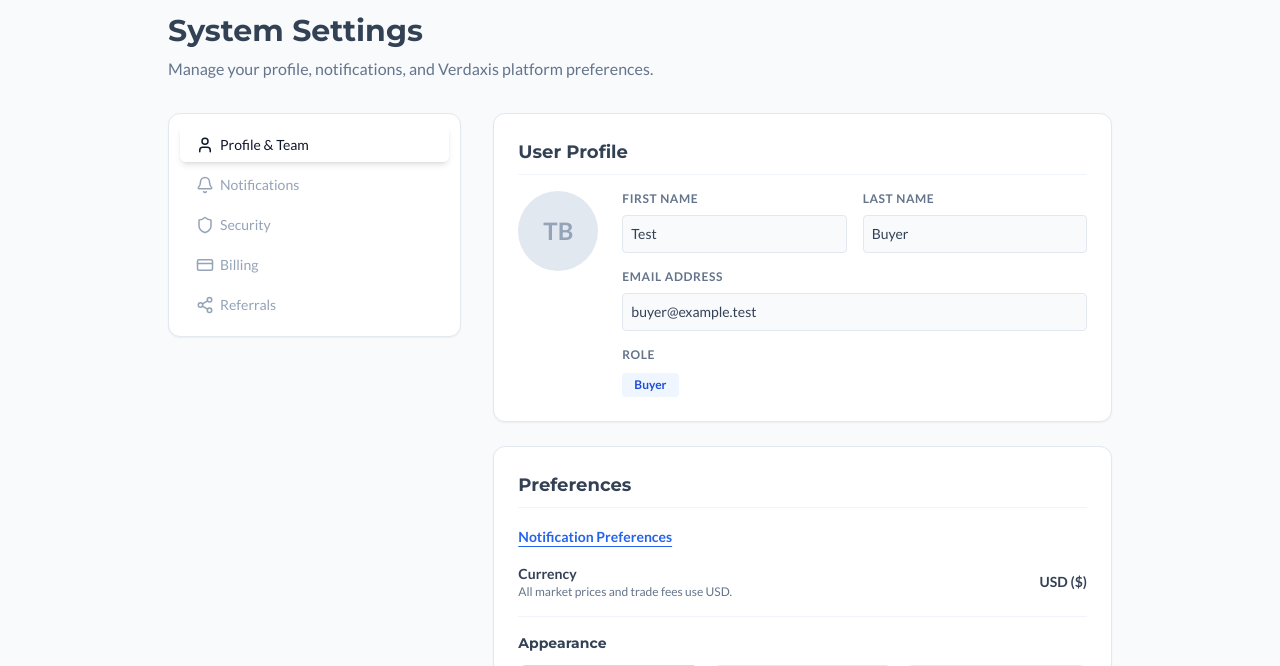
audited UI controls › shows fixed currency, labelled passwords, and a working sales destination
Expected: the field labelled "First Name" is shown, [622,215,847,253]
Expected: the text "USD ($)" is shown, [1040,572,1087,592]
Click the button "Security". click: point(245, 224)
box: [180,205,449,245]
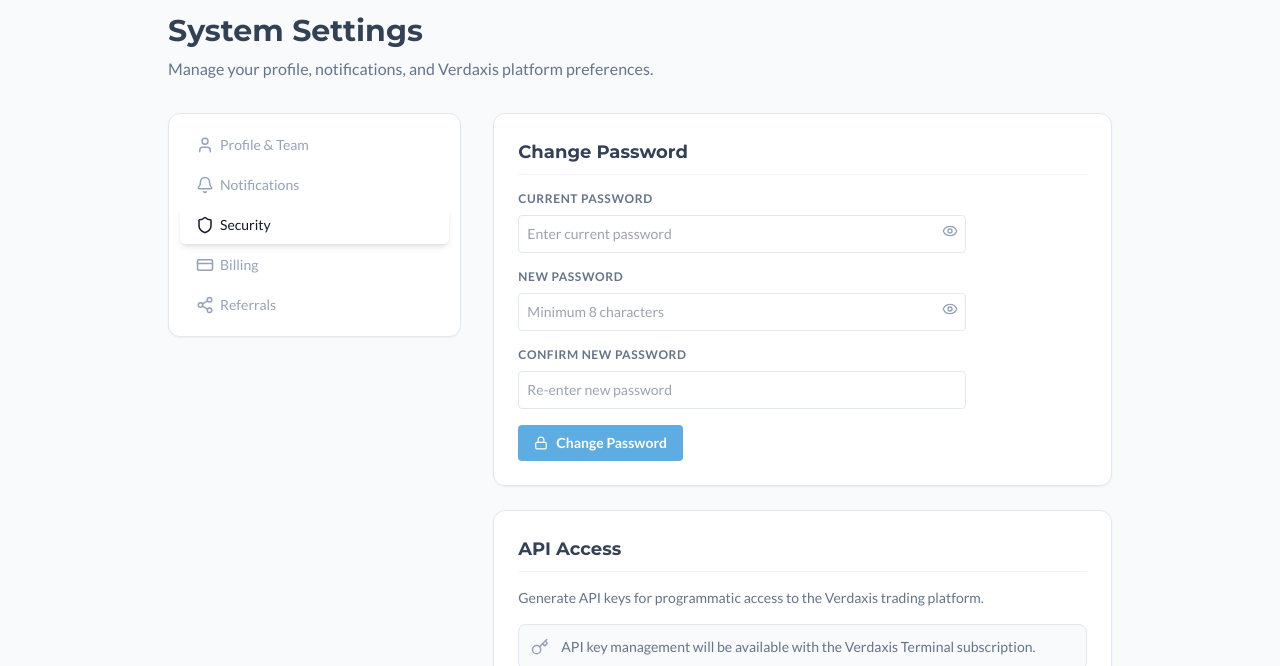
Expected: the password field labelled "Current Password" is shown, [518,215,966,253]
Expected: the password field labelled "New Password" is shown, [518,293,966,331]
Expected: the password field labelled "Confirm New Password" is shown, [518,371,966,409]
Click the button "Billing". click: point(239, 264)
box: [180,245,449,285]
(page scrolled)
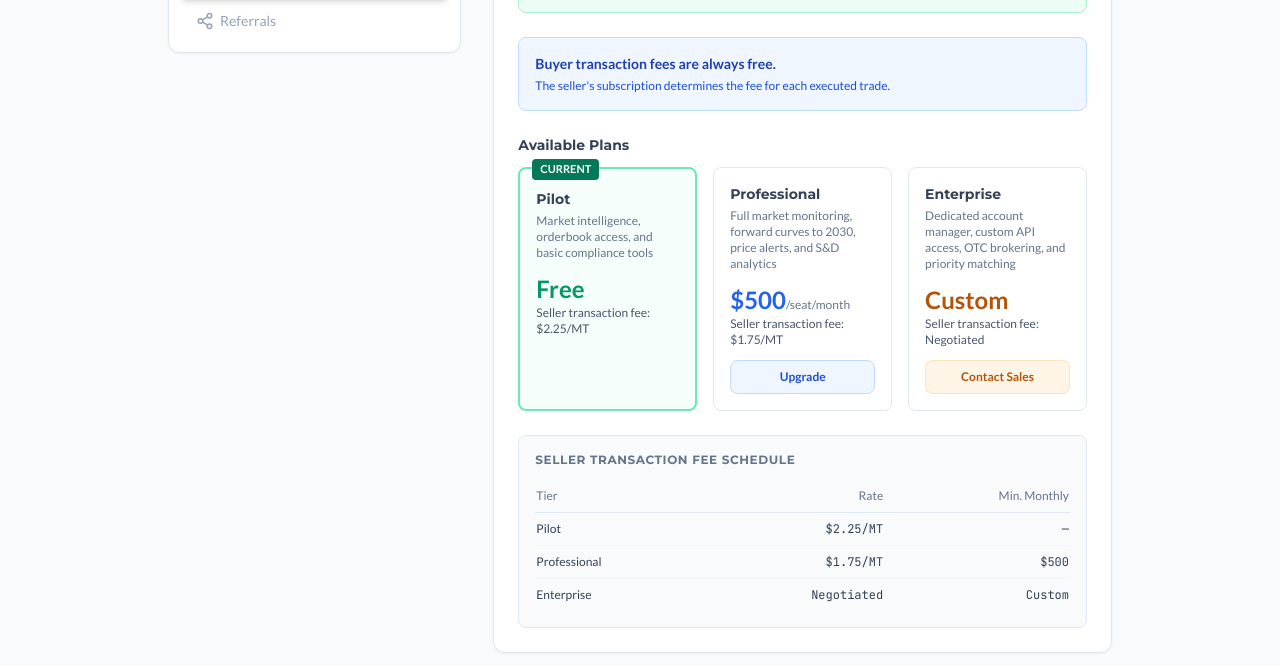
Expected: the text "Buyer transaction fees are always free." is shown, [535,55,776,72]
Expected: the text "$2.25/MT" is shown, [696,512,899,546]
Expected: the text "$1.75/MT" is shown, [696,546,899,578]
